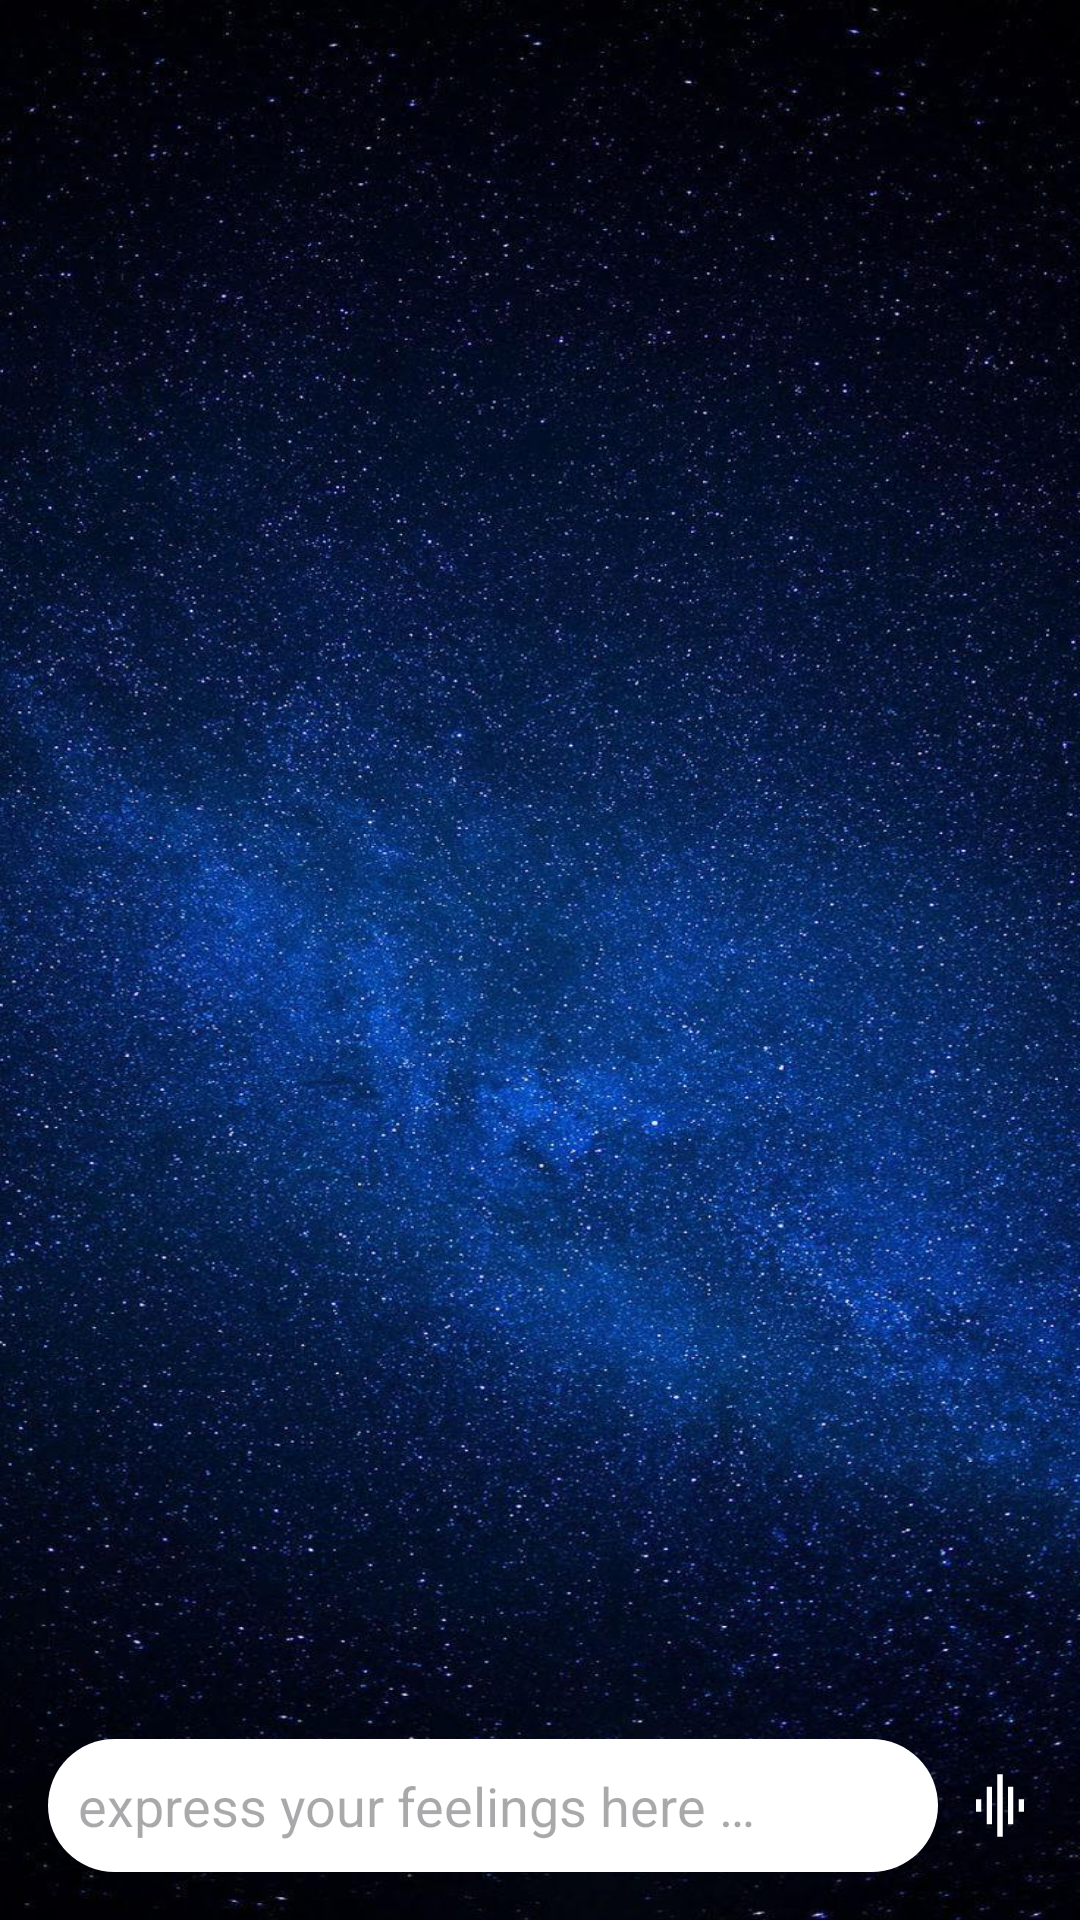

Icon bounding boxes for this 1080px x 1920px phone screenshot, format box=[x1, y1, x2, y2]:
audiohwitesvg: box=[968, 1769, 1025, 1837]
